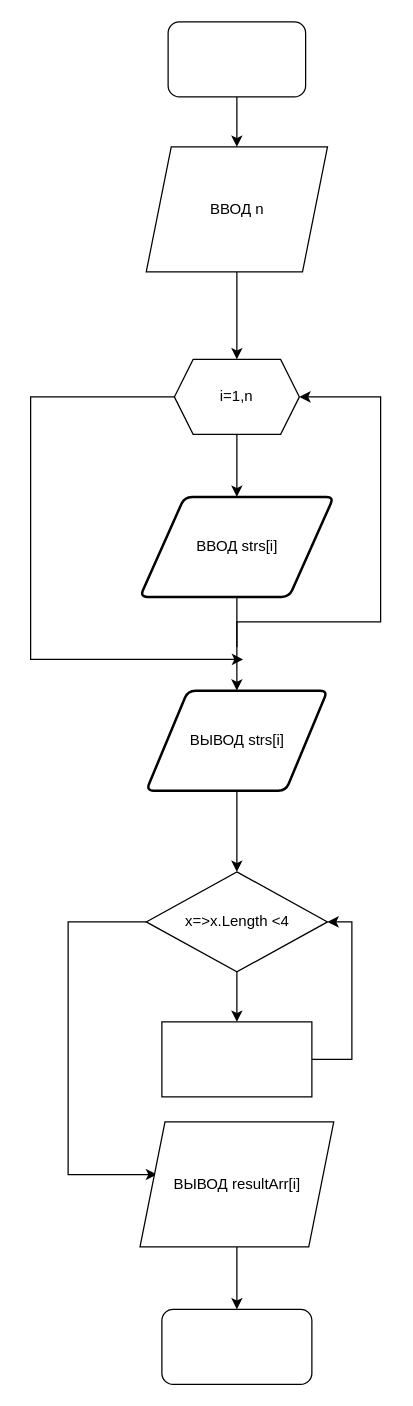
The diagram is 413 pixels wide and 1406 high, and some of its shapes have lost their labels. The shapes that lost their labels are listed below. From the top down, each one's centre as x and y in pixels, then its label:
point (236, 59): START
point (236, 1059): resultArr[i++]=strs[i]
point (236, 1346): END
